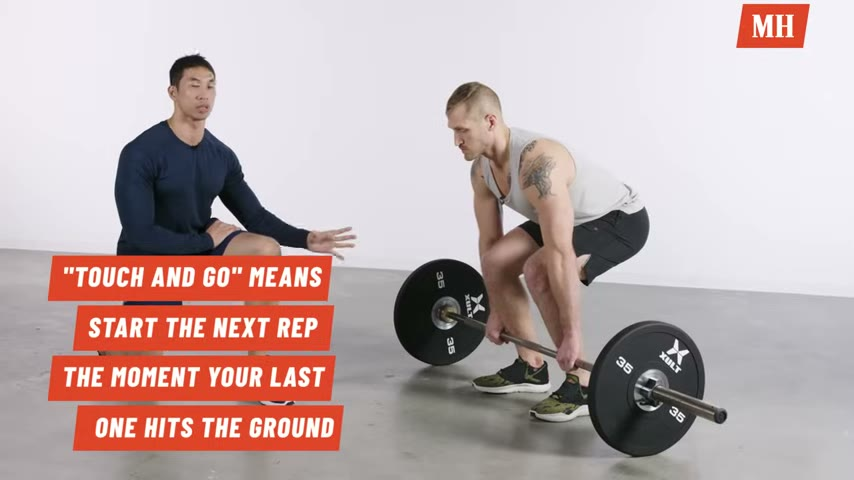barbell_plate_side: (390, 257, 472, 457), (643, 314, 726, 463)
